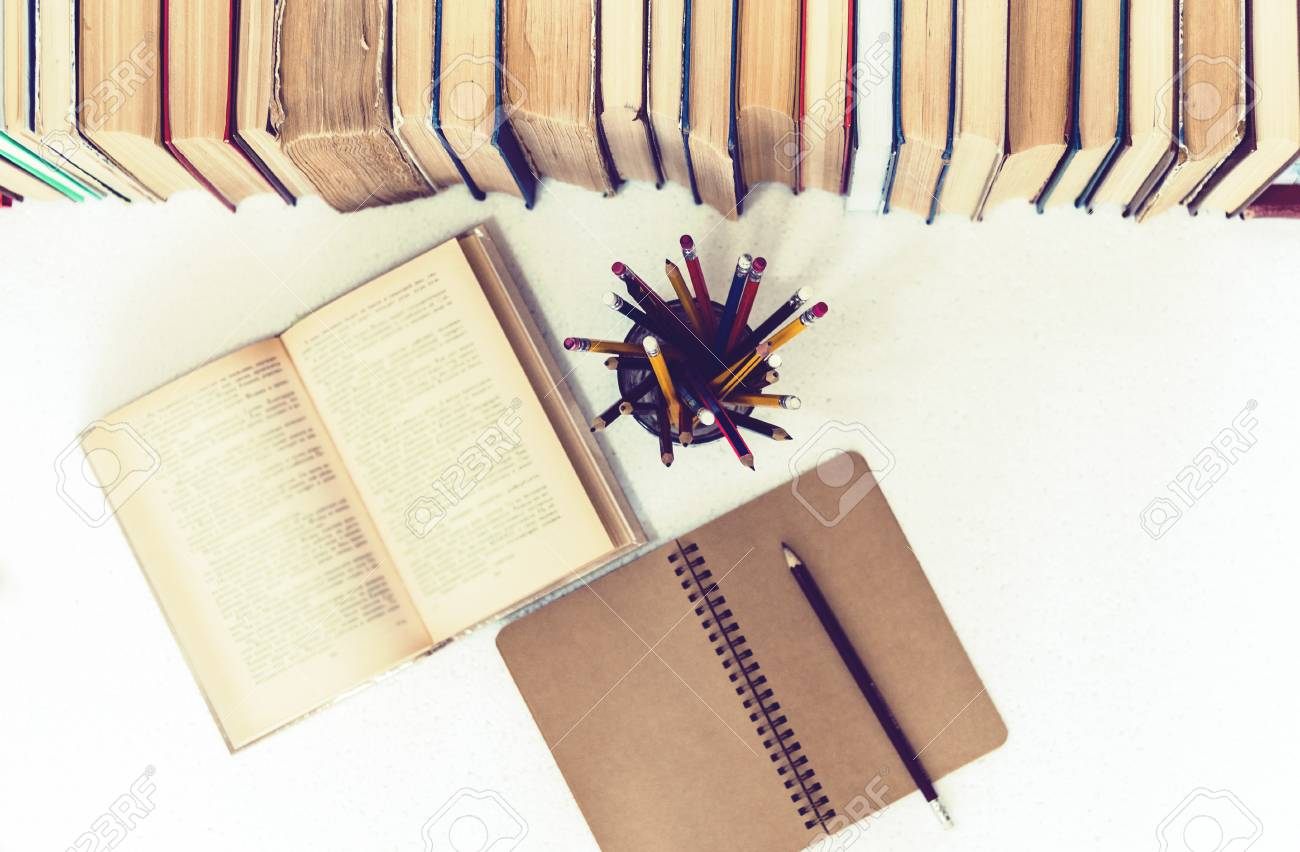Open Book: (77, 234, 632, 707)
